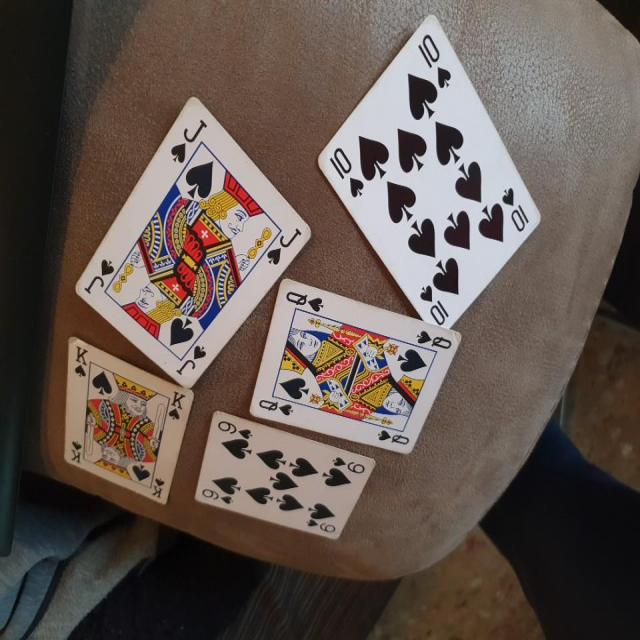10 Spades: (316, 8, 544, 335)
9 Spades: (191, 406, 382, 559)
J Spades: (78, 92, 306, 396)
K Spades: (55, 335, 195, 521)
Q Spades: (244, 272, 460, 461)
